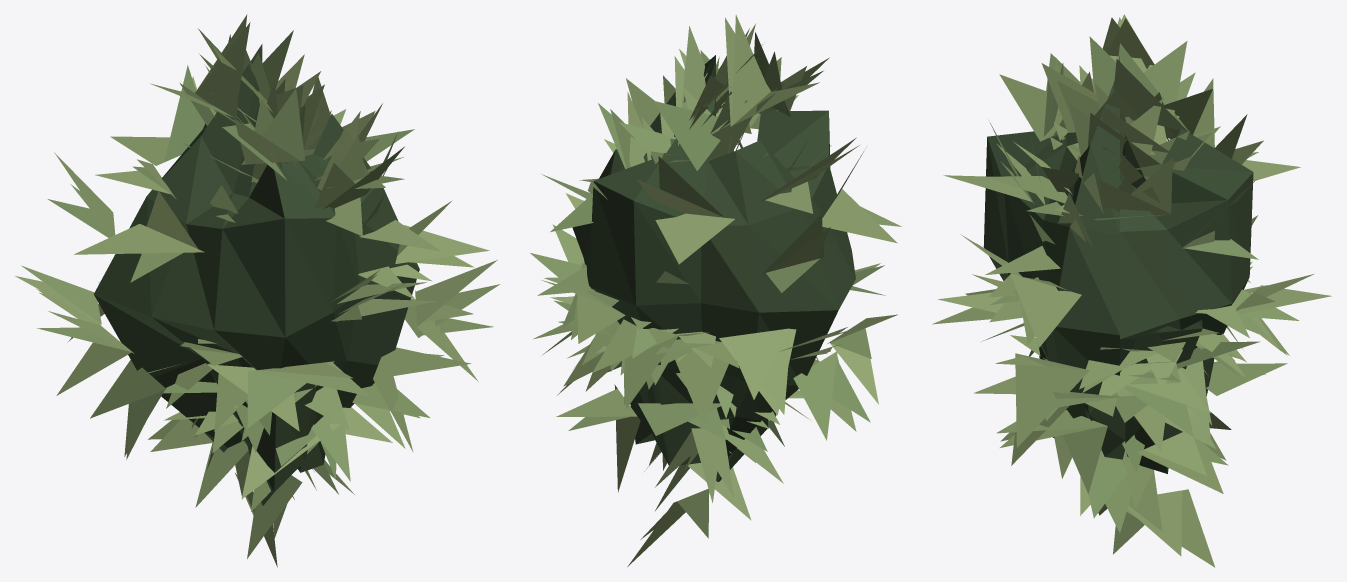
The model's file is hieda_bush_c.glb.
3 views of the same model, side by side, from view 1: azimuth 30°, elevation 25°; view 2: azimuth 150°, elevation 25°; view 3: azimuth 270°, elevation 25° (orthographic). The views are drawn at different scales.
Visible parts, largest first — view 1: hieda_bush_c; view 2: hieda_bush_c; view 3: hieda_bush_c.
Boxes of the visible parts, x1,y1,x2,y2 form: hieda_bush_c: (15, 14, 500, 567); hieda_bush_c: (530, 15, 901, 566); hieda_bush_c: (932, 14, 1331, 567).
Size of the model in its own units: 3.63 by 4.69 by 3.24.
